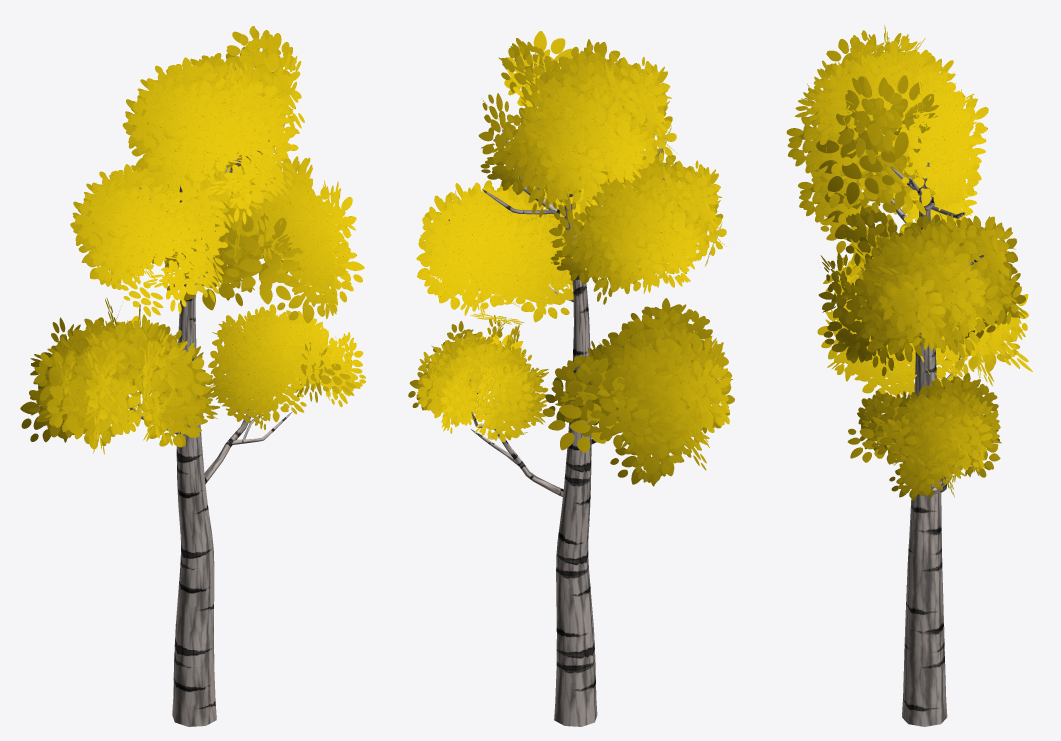
Rendered from BirchTree_1.glb.
3 renders of one model, left to right at view 1: azimuth 30°, elevation 25°; view 2: azimuth 150°, elevation 25°; view 3: azimuth 270°, elevation 25°, orthographic. The views are drawn at different scales.
Visible parts, largest first — view 1: BirchTree_1; view 2: BirchTree_1; view 3: BirchTree_1.
Boxes of the visible parts, x1=… form: BirchTree_1: x1=20, y1=26, x2=365, y2=726; BirchTree_1: x1=408, y1=31, x2=734, y2=726; BirchTree_1: x1=786, y1=25, x2=1032, y2=726.
Size of the model in its own units: 2.71 by 5.45 by 1.94.
2 materials, 2 textured.
